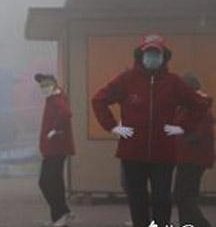person: (91, 33, 205, 227), (32, 70, 82, 227), (175, 70, 215, 226)
